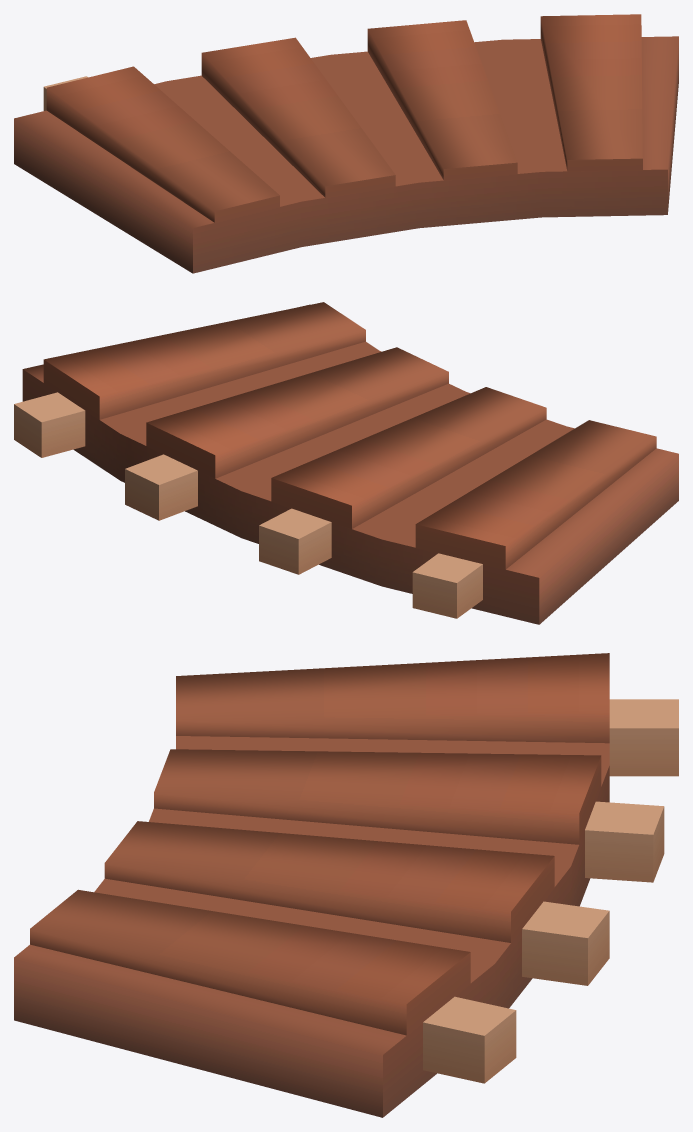
File: food.meat_ribs.glb
3 views of the same model, one above another, from view 1: azimuth 30°, elevation 25°; view 2: azimuth 150°, elevation 25°; view 3: azimuth 270°, elevation 25° (orthographic). The views are drawn at different scales.
Visible parts, largest first — view 1: meat-ribs; view 2: meat-ribs; view 3: meat-ribs.
Part boxes in pixels (x1,y1,x2,y2): meat-ribs: (14, 14, 678, 273); meat-ribs: (14, 302, 678, 624); meat-ribs: (14, 653, 678, 1117).
Size of the model in its own units: 0.159 by 0.0178 by 0.1139.
Materials: 1 (1 with a texture image).
